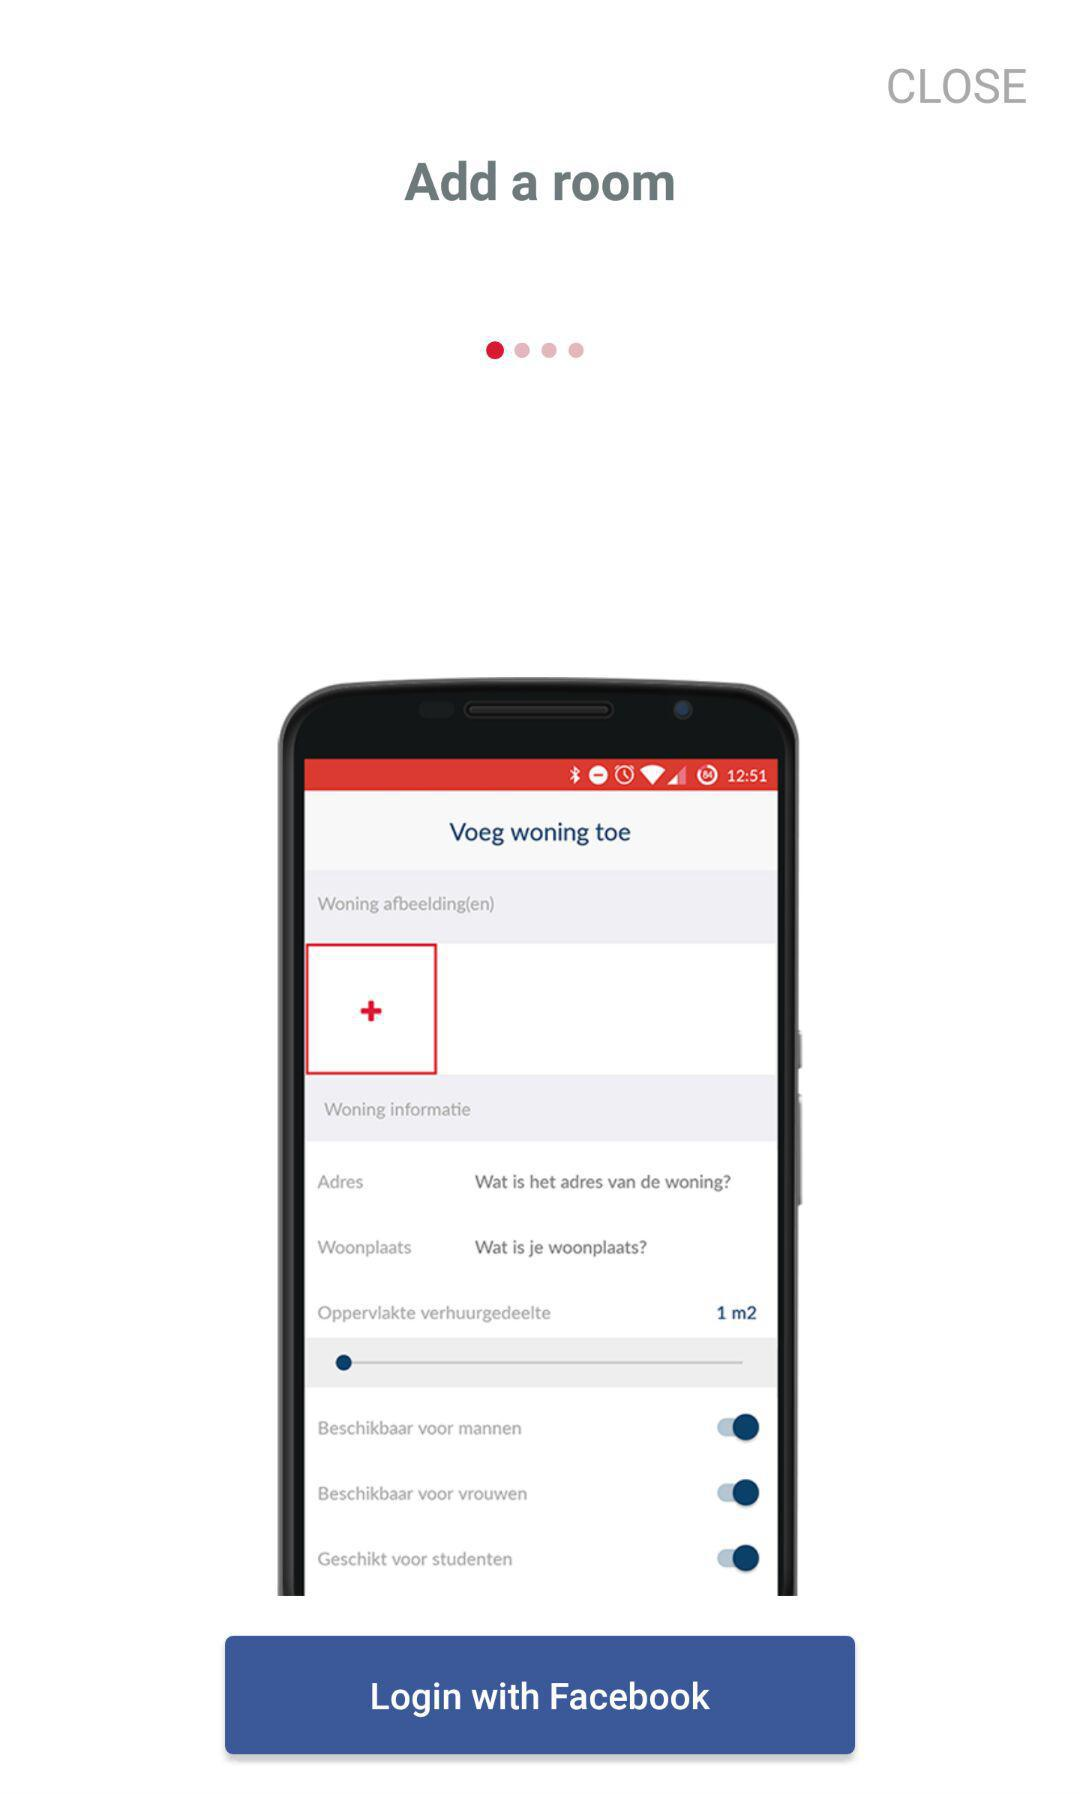Image: (277, 679, 801, 1597)
PageIndicator: (486, 340, 585, 361)
Text: (404, 160, 675, 202), (887, 68, 1029, 106)
TextButton: (225, 1635, 855, 1756)
